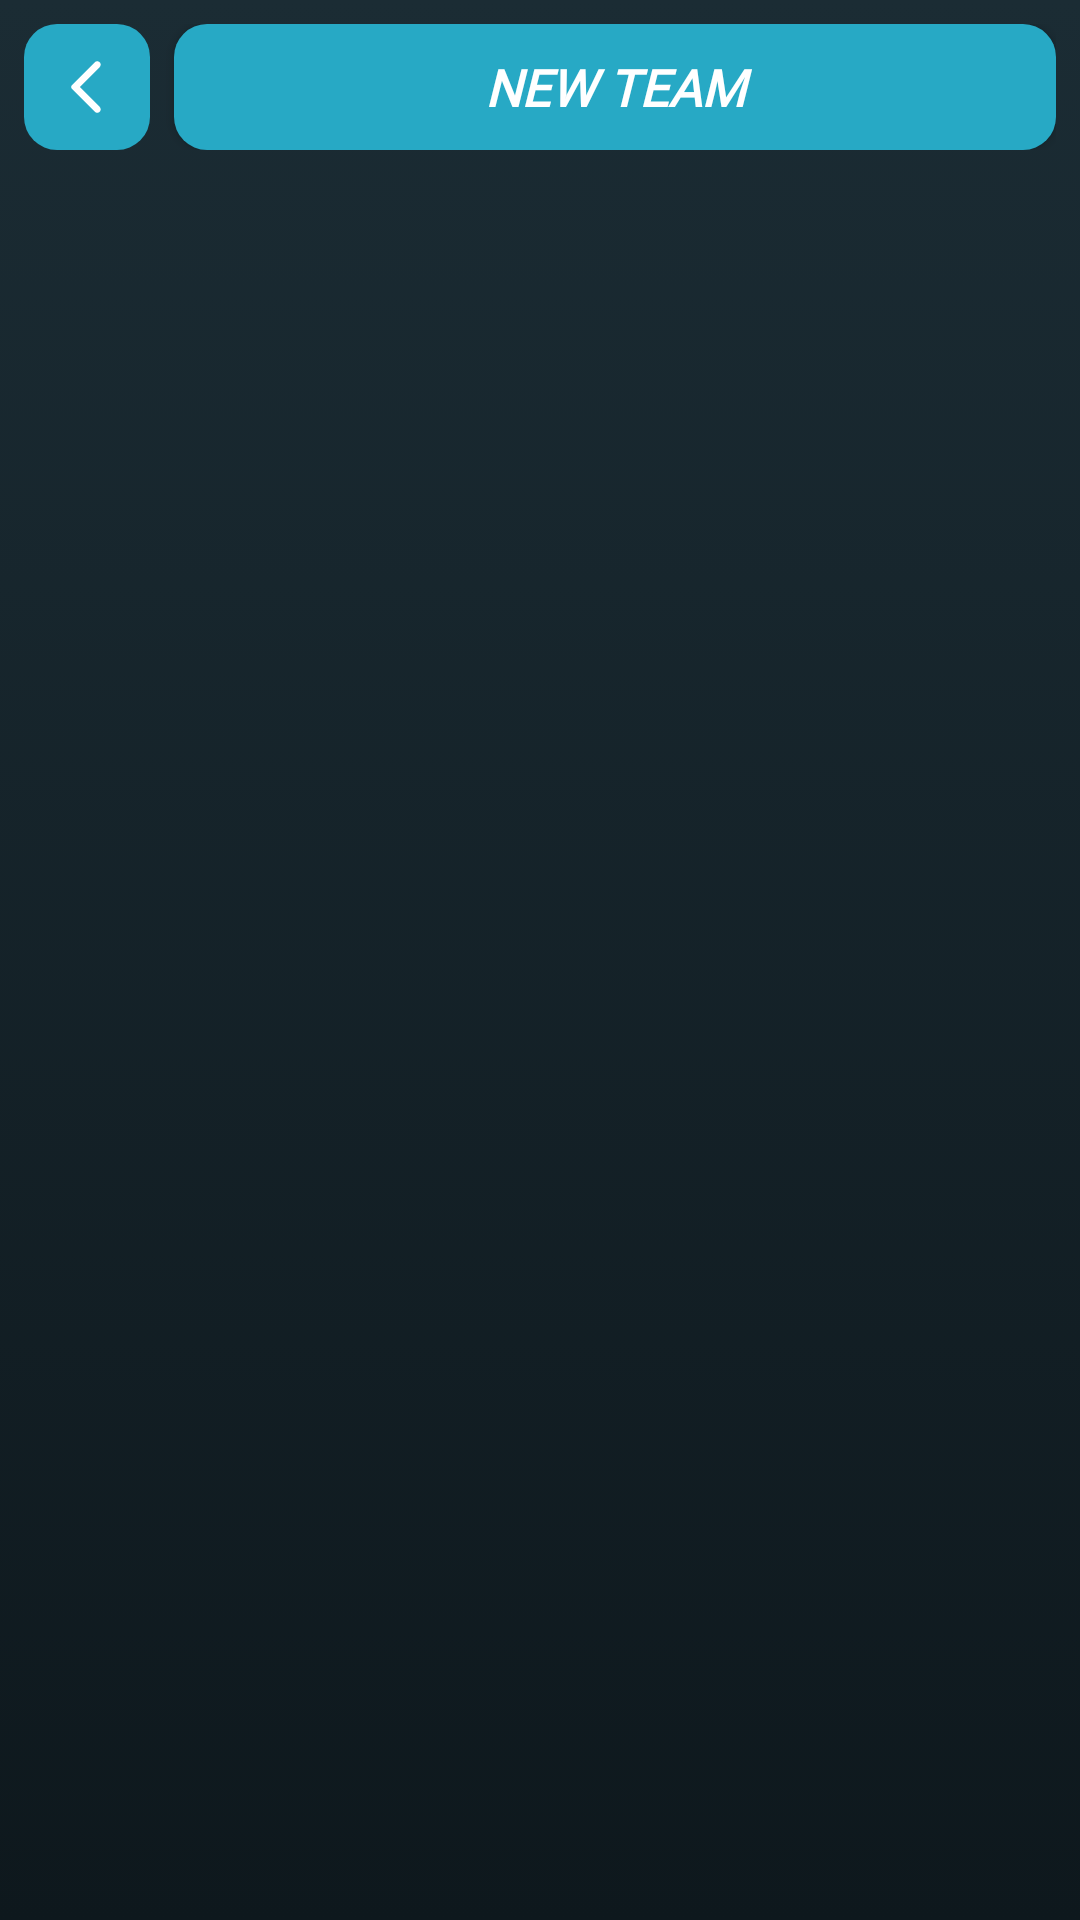

Where icons sit on this 1080px×1920px app screen, as box=[x1, y1, x2, y2]:
BACK: box=[24, 24, 150, 150]
